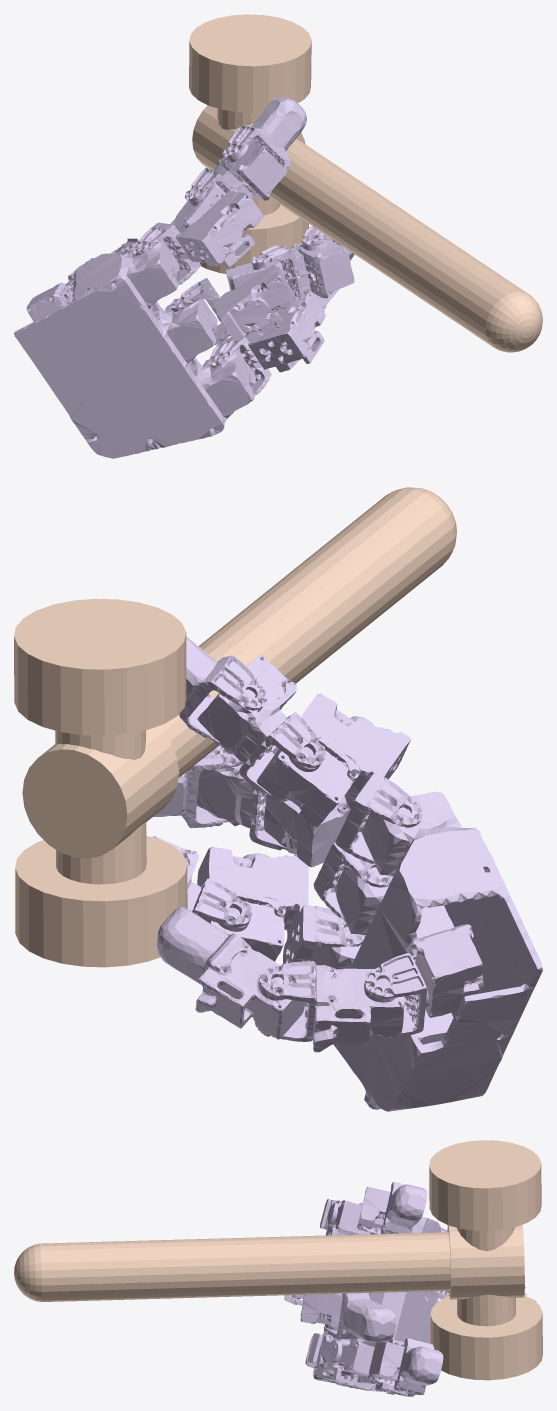
3 renders of one model, top to bottom at view 1: azimuth 30°, elevation 25°; view 2: azimuth 150°, elevation 25°; view 3: azimuth 270°, elevation 25°, orthographic. The views are drawn at different scales.
Parts seen in each view (by area): view 1: LEAP_hand, world; view 2: LEAP_hand, world; view 3: world, LEAP_hand.
Boxes of the visible parts, x1,y1,x2,y2 form: LEAP_hand: [14, 96, 354, 458]; world: [189, 14, 542, 352]; LEAP_hand: [151, 637, 542, 1111]; world: [14, 487, 456, 967]; world: [14, 1140, 542, 1380]; LEAP_hand: [284, 1181, 536, 1396].
Size of the model in its own units: 0.247 by 0.226 by 0.3581.
